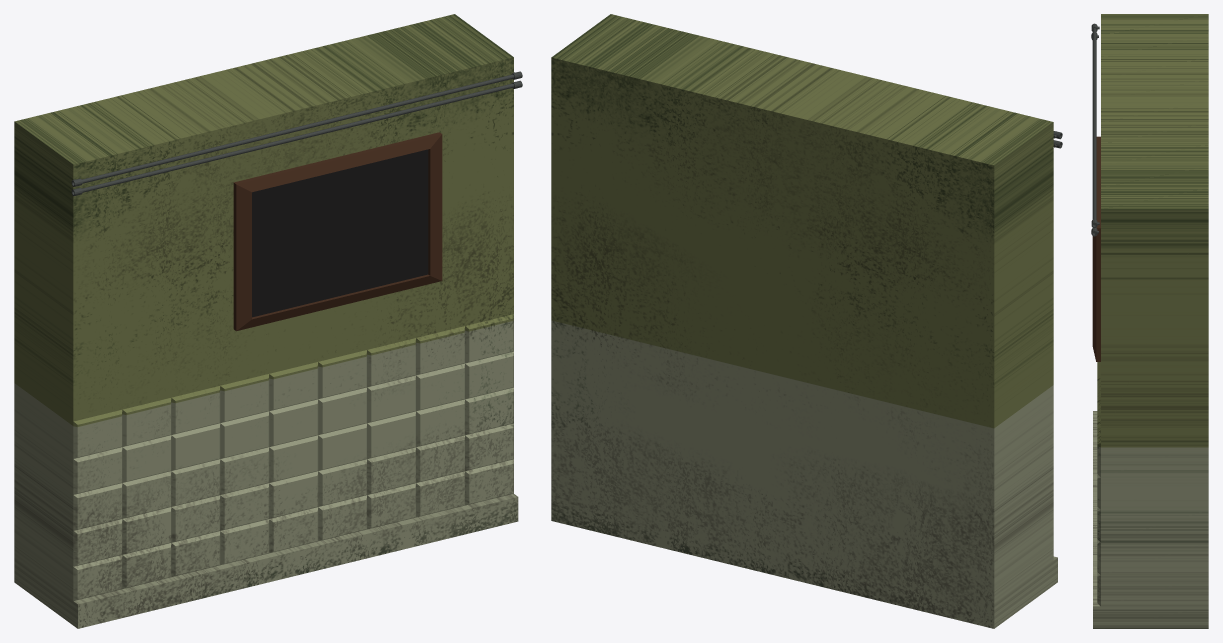
File: Wall_1_M.fbx
The picture shows the model from 3 angles, left to right: view 1: azimuth 30°, elevation 25°; view 2: azimuth 150°, elevation 25°; view 3: azimuth 270°, elevation 25°; orthographic projection. The views are drawn at different scales.
Parts seen in each view (by area): view 1: Wall_2; view 2: Wall_2; view 3: Wall_2.
Boxes of the visible parts, <box> form: Wall_2: <box>14,14,522,628</box>; Wall_2: <box>551,14,1062,628</box>; Wall_2: <box>1091,14,1208,628</box>.
Bounding box in the file's own units: 4.07 × 4 × 1.01.
